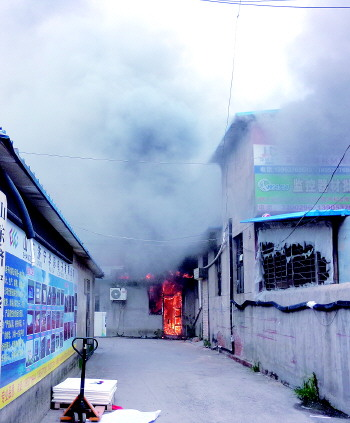fire: (126, 269, 198, 341)
smoke: (45, 27, 215, 251)
